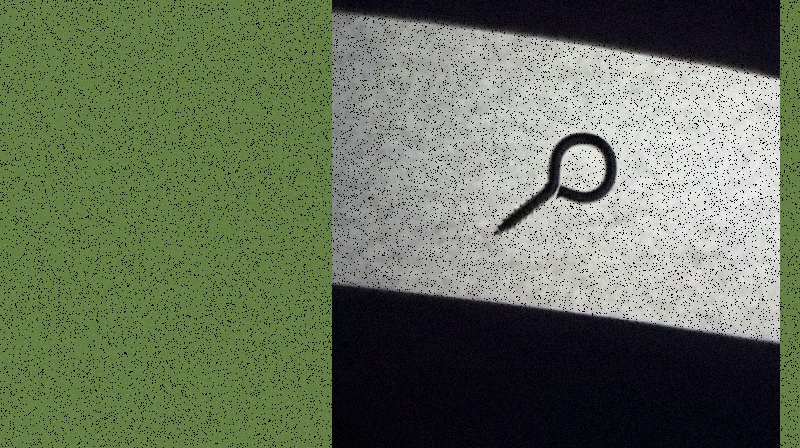O001: (488, 128, 619, 241)
